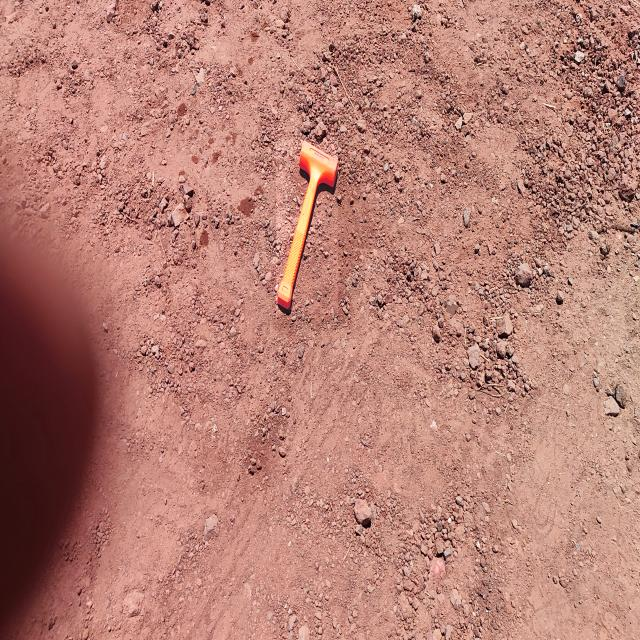Orange_hammer: (276, 139, 338, 313)
